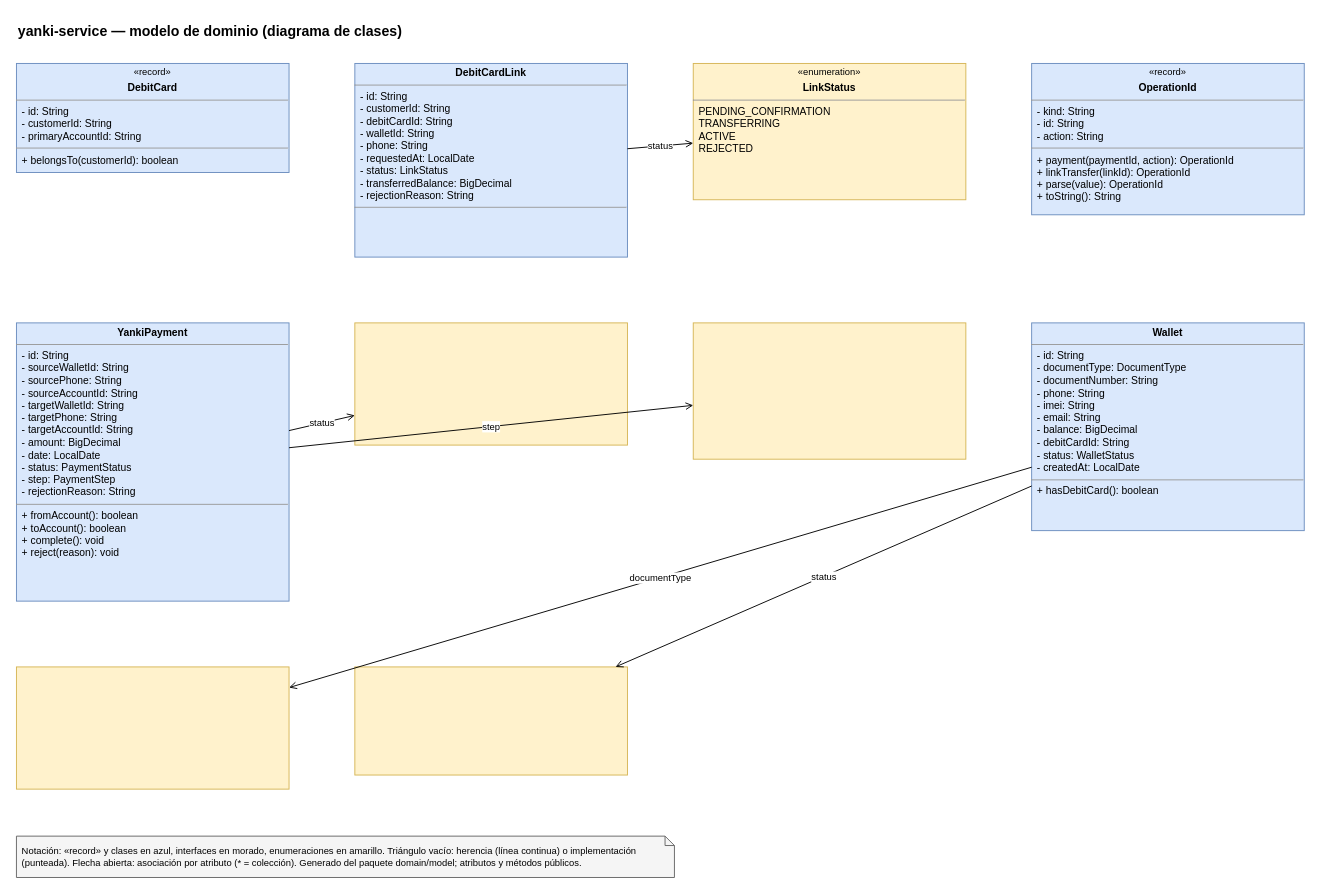
Some shapes in this 1321 by 894 pixel diagram are drawn without their labels. The shapes that lost their labels are listed below. From the top down, each one's centre as x and y in pixels, then its label:
At (x=490, y=383): "«enumeration» PaymentStatus PENDING COMPLETED REJECTED".
At (x=829, y=390): "«enumeration» PaymentStep DEBITING_SOURCE CREDITING_TARGET REFUNDING_SOURCE DONE".
At (x=152, y=727): "«enumeration» DocumentType DNI CEX PASSPORT + accepts(number): boolean".
At (x=490, y=720): "«enumeration» WalletStatus ACTIVE LINKING".
